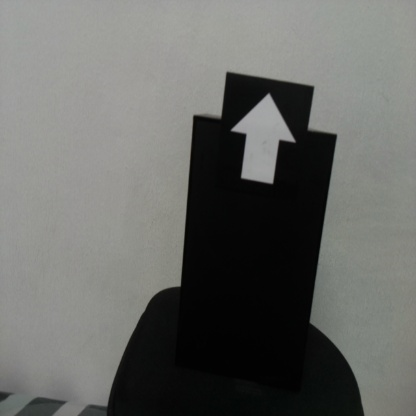id_1: (226, 80, 311, 205)
